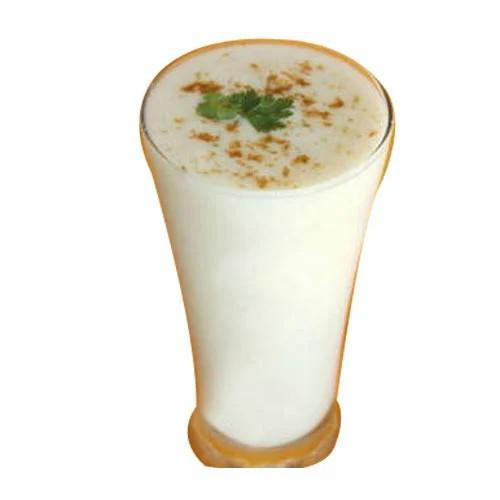Lassi: (139, 43, 392, 450)
